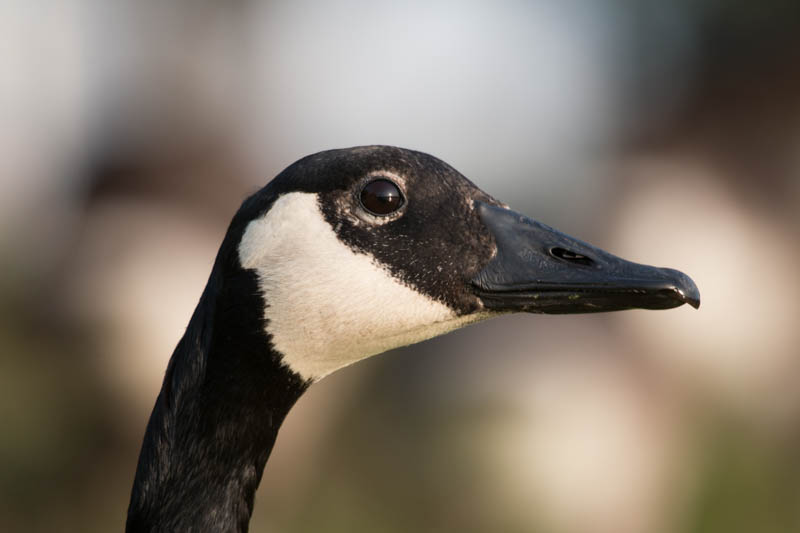goose-head: (194, 146, 700, 390)
